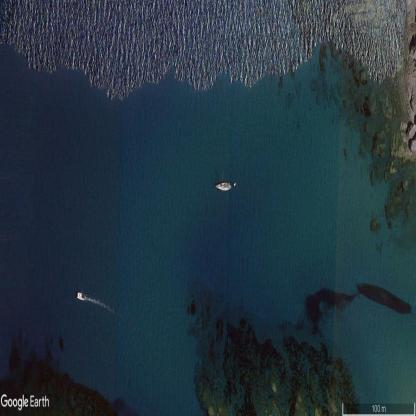ship: (216, 183, 231, 191), (76, 292, 85, 301), (234, 182, 236, 186)
